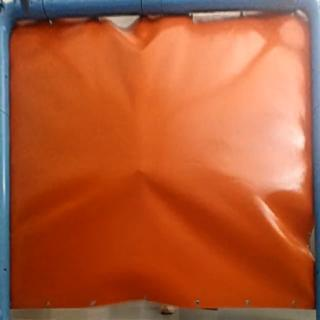Hit-hRxx: (132, 164, 147, 176)
